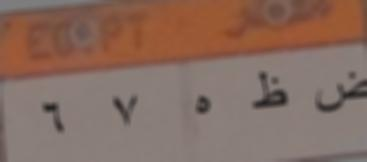6: (40, 99, 72, 135)
7: (108, 88, 142, 134)
Thaa: (248, 62, 292, 120)
daad: (312, 68, 367, 115)
haa: (188, 88, 213, 124)
